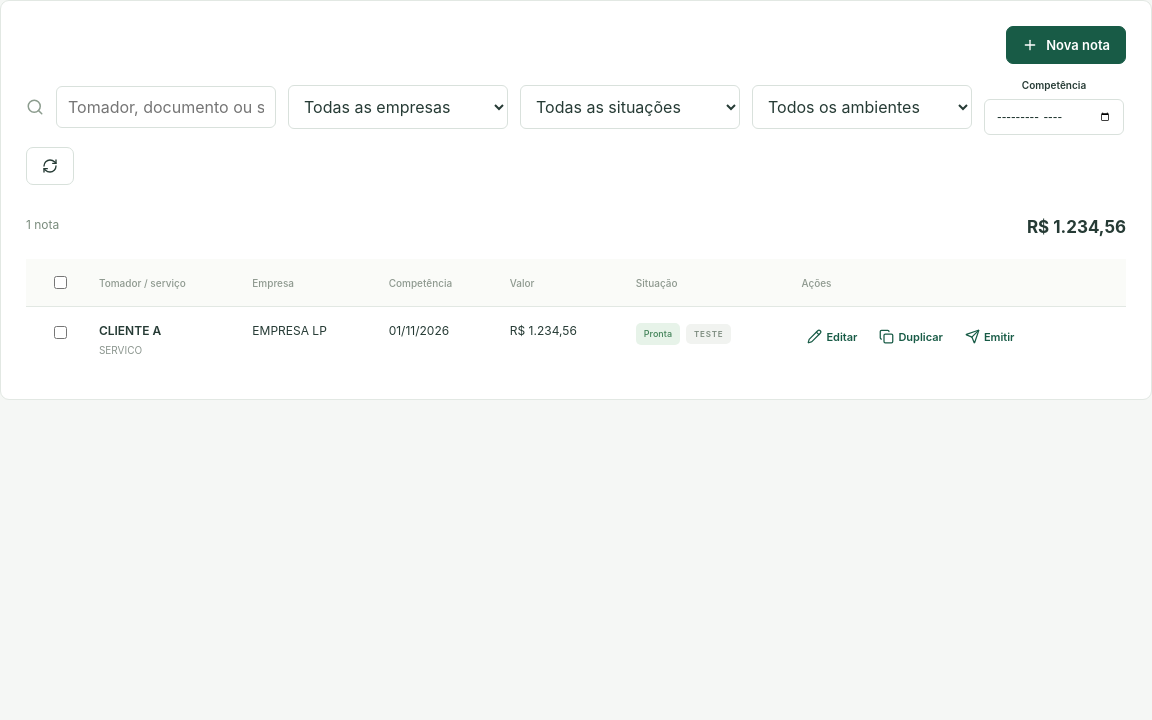
Test: emission shows the PIS/COFINS that will be highlighted
What coordinates should you click on to do the following:
click the button "Emitir"
I would click on:
 (990, 336)
Its box is [959, 323, 1020, 350].
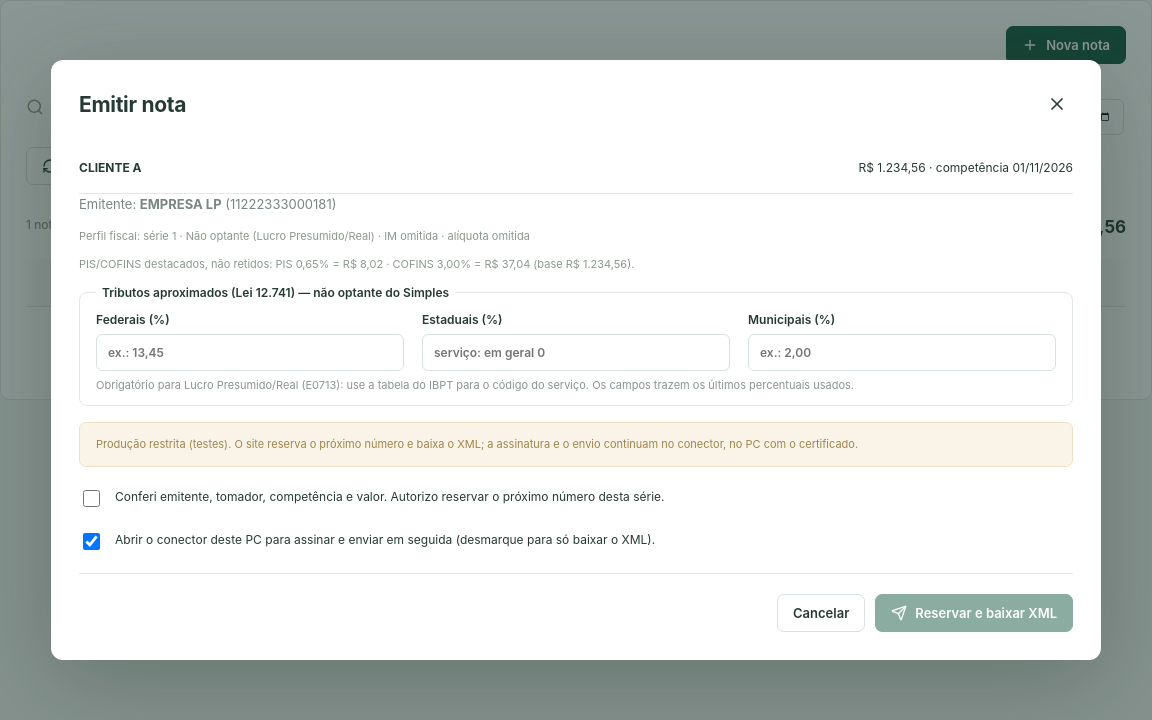
Check: the dialog shows "não retidos", box [79, 257, 296, 271]
